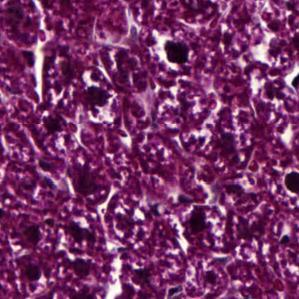inflammation: (241, 56, 294, 109), (156, 29, 201, 76), (77, 82, 122, 127), (180, 199, 220, 243)
